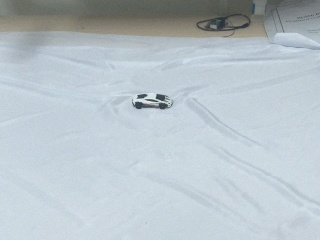toy_car: (132, 93, 173, 110)
